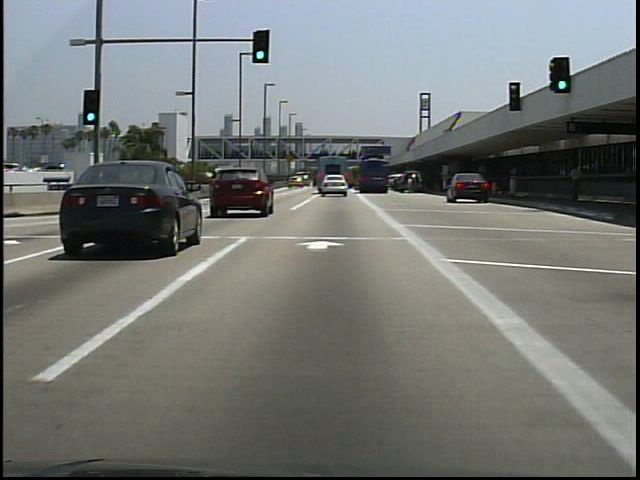person: (563, 158, 584, 206)
